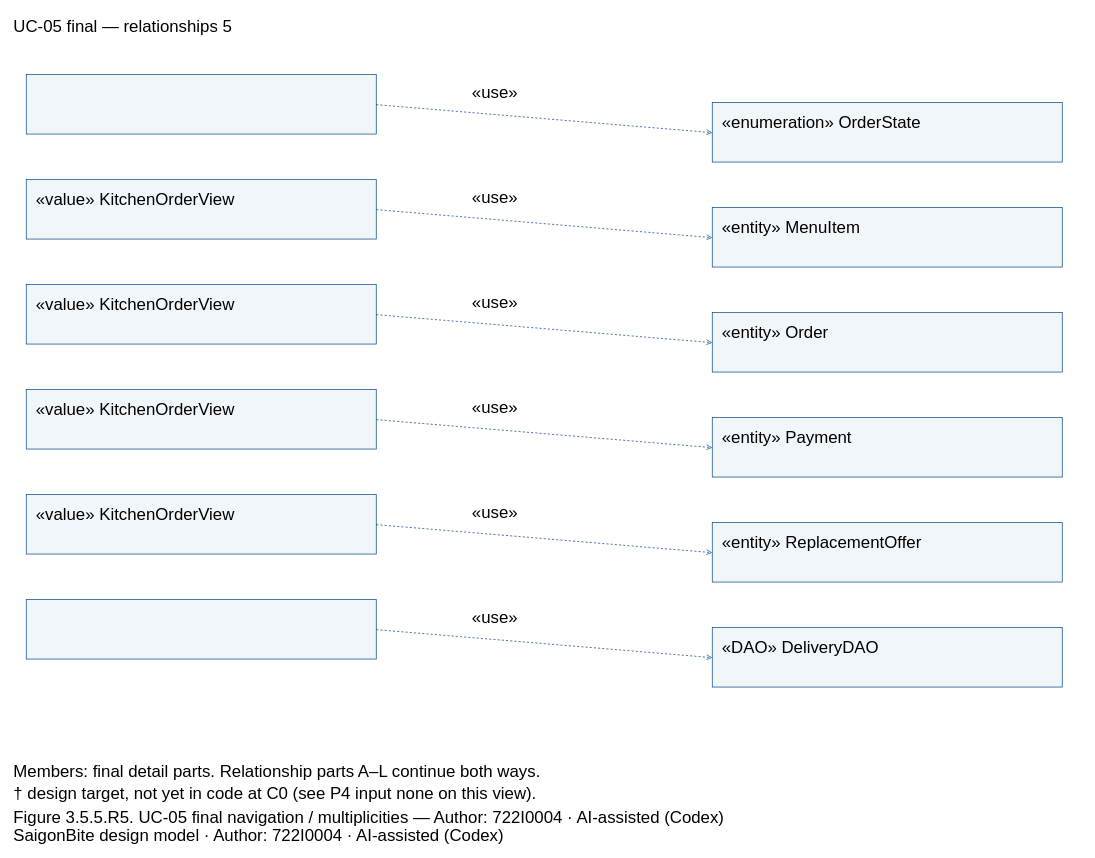
The diagram is 1095 pixels wide and 858 high, and some of its shapes have lost their labels. Each missing label, with the box of its shape:
«controller» KitchenController: (26, 599, 376, 659)
«value» KitchenBoard: (26, 74, 376, 134)
